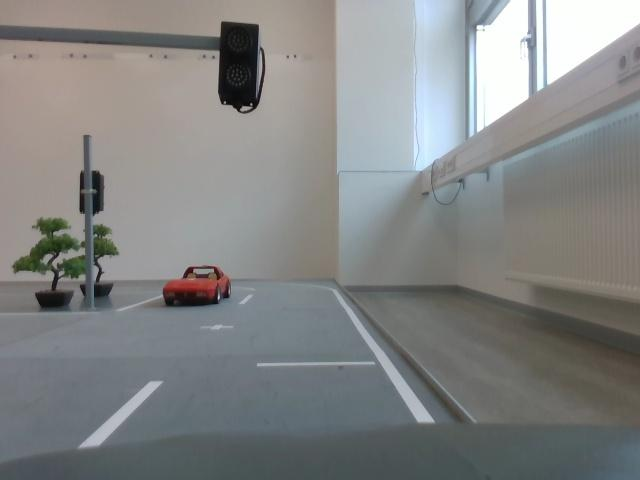car: (159, 258, 237, 315)
potted plant: (12, 208, 85, 314), (70, 214, 120, 307)
traffic light: (217, 17, 263, 114), (76, 167, 106, 213)
